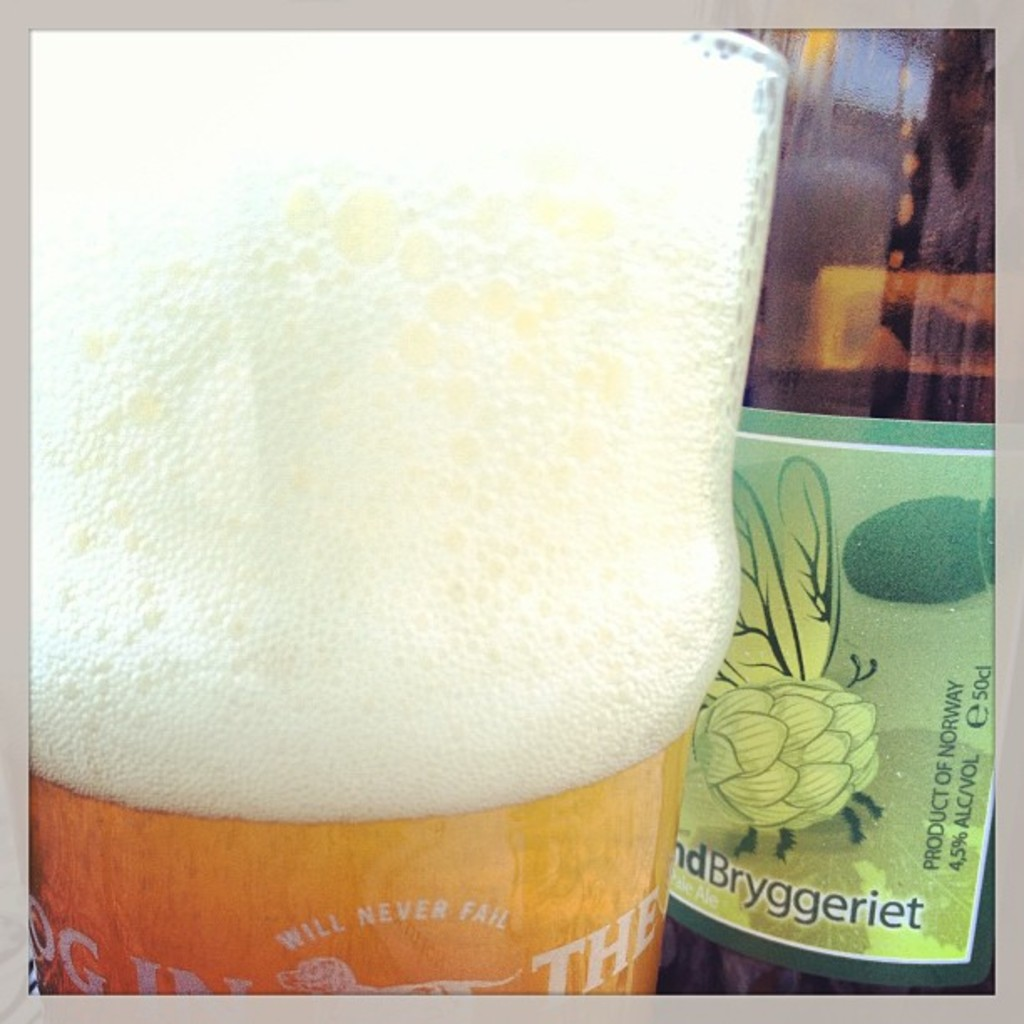Beer: (0, 21, 1013, 1015)
